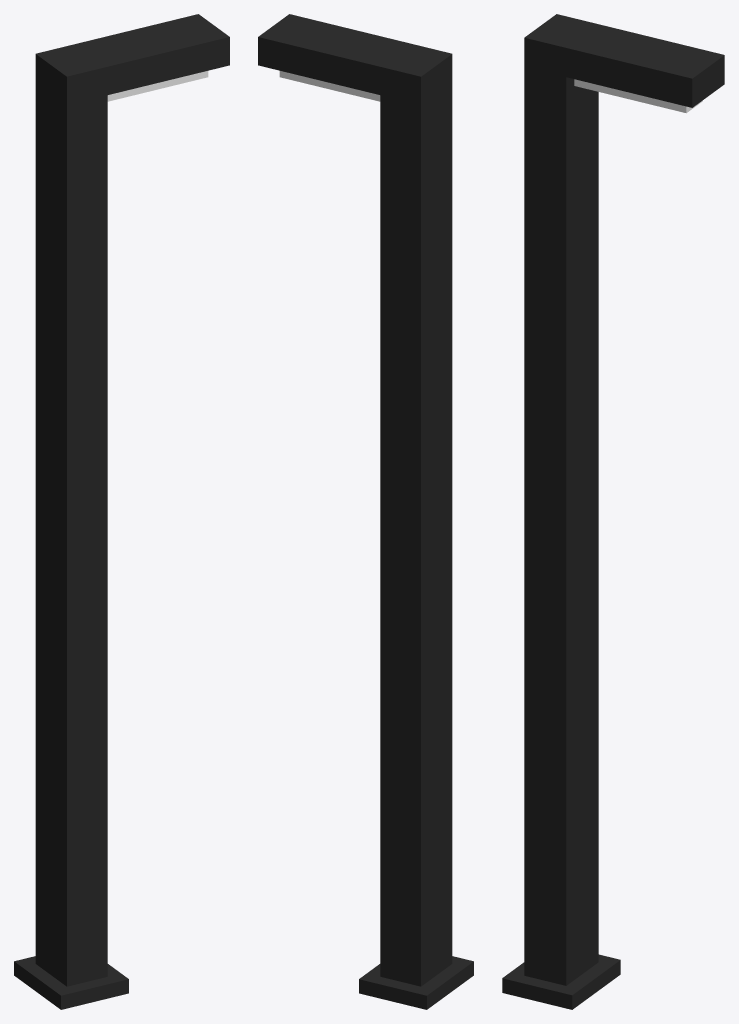
The model's file is lantern.obj.
3 renders of one model, left to right at view 1: azimuth 30°, elevation 25°; view 2: azimuth 150°, elevation 25°; view 3: azimuth 330°, elevation 25°, orthographic. The views are drawn at different scales.
Bounding box in the file's own units: 1.3 × 6.5 × 0.6.
1 material, 1 textured.
